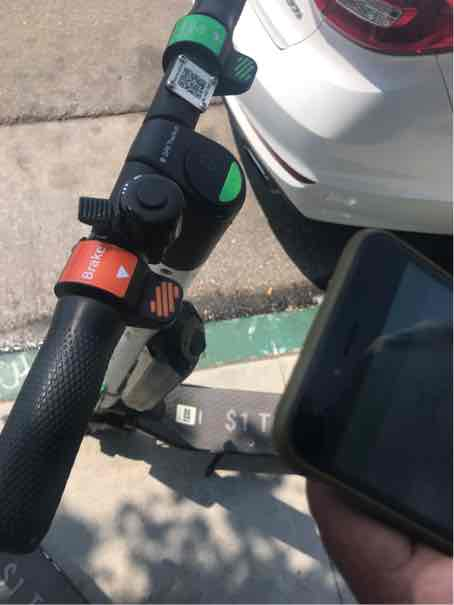scooter: (2, 13, 446, 488)
